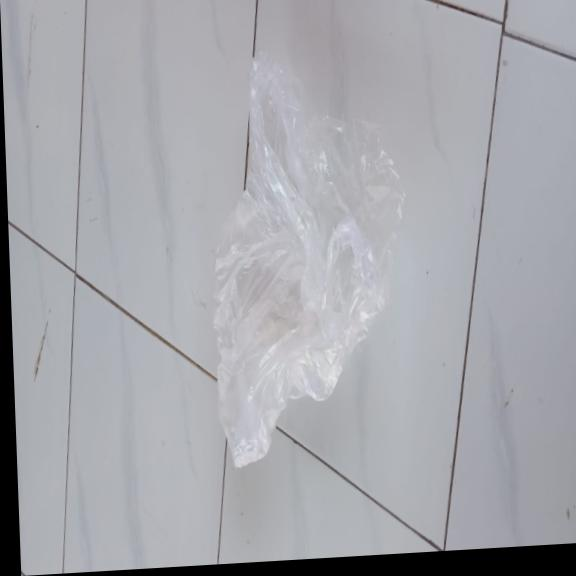Plastik: (203, 41, 415, 472)
